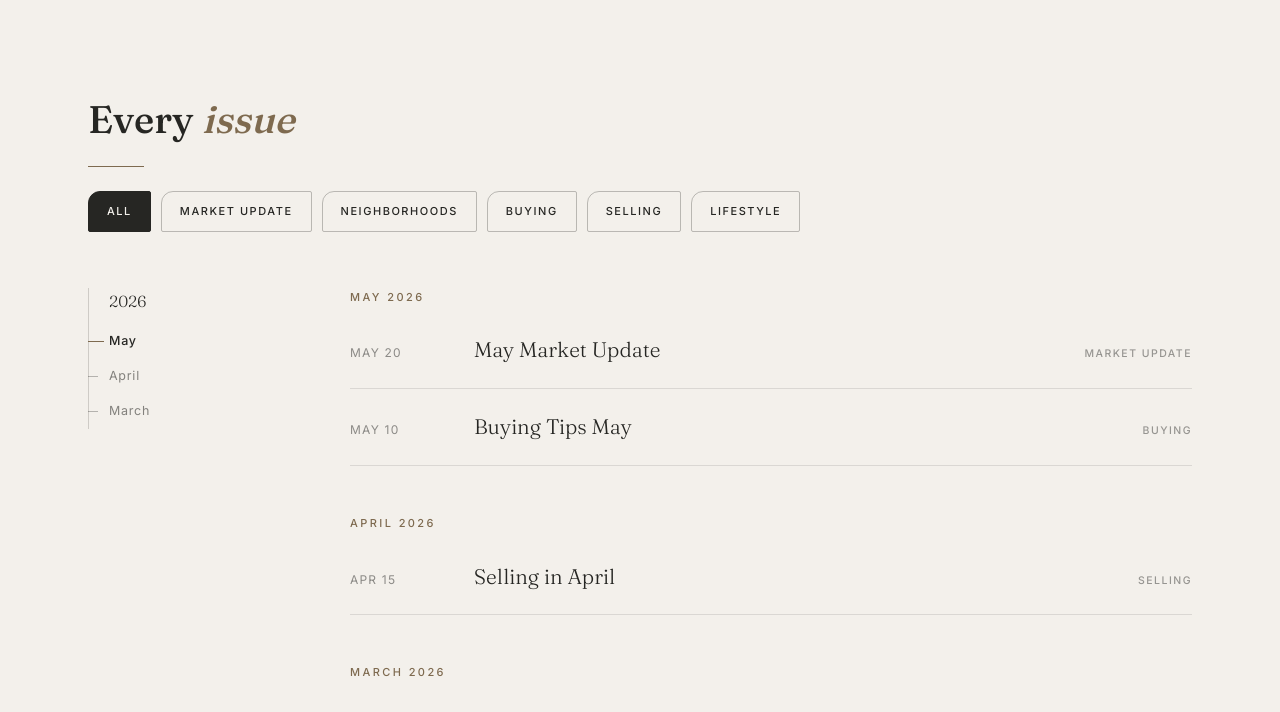
BlogArchive › clicking a chip that has no posts shows empty state
The width and height of the screenshot is (1280, 712).
Click the button "Neighborhoods": (399, 211) [322,191,477,232]
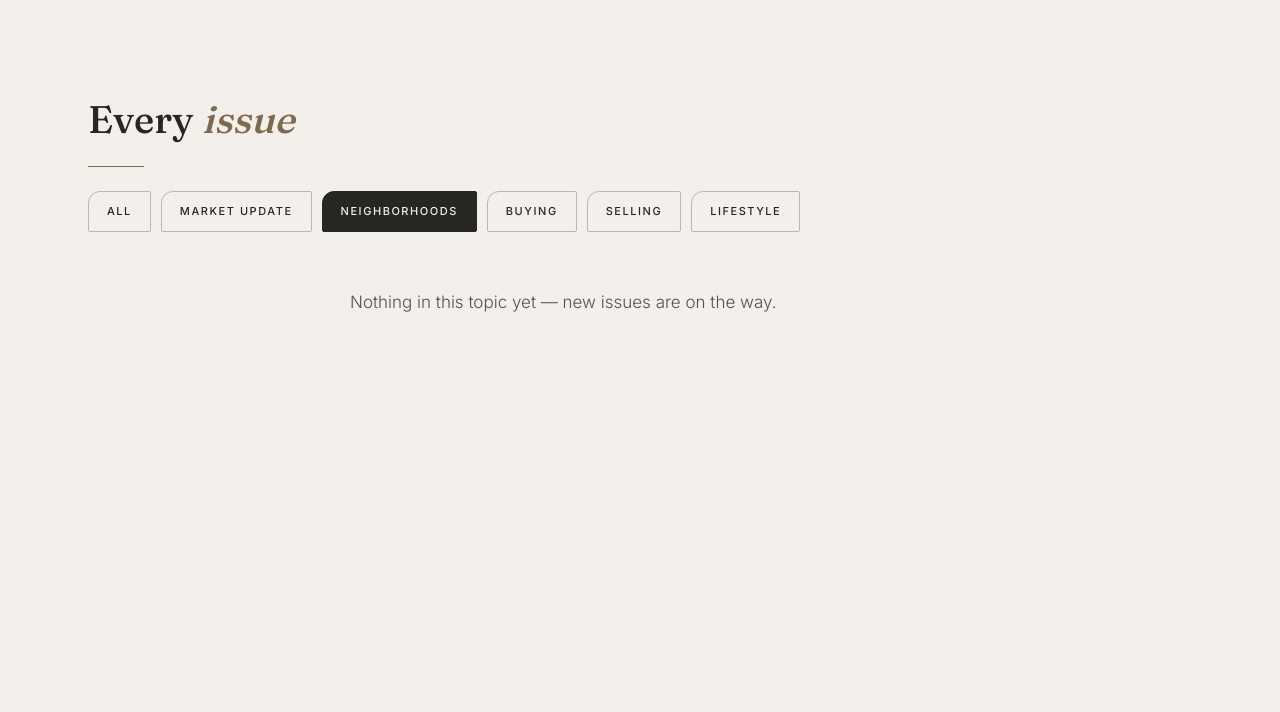
Result: the text "Nothing in this topic yet — new issues are on the way." is shown at [350,292,776,312]
